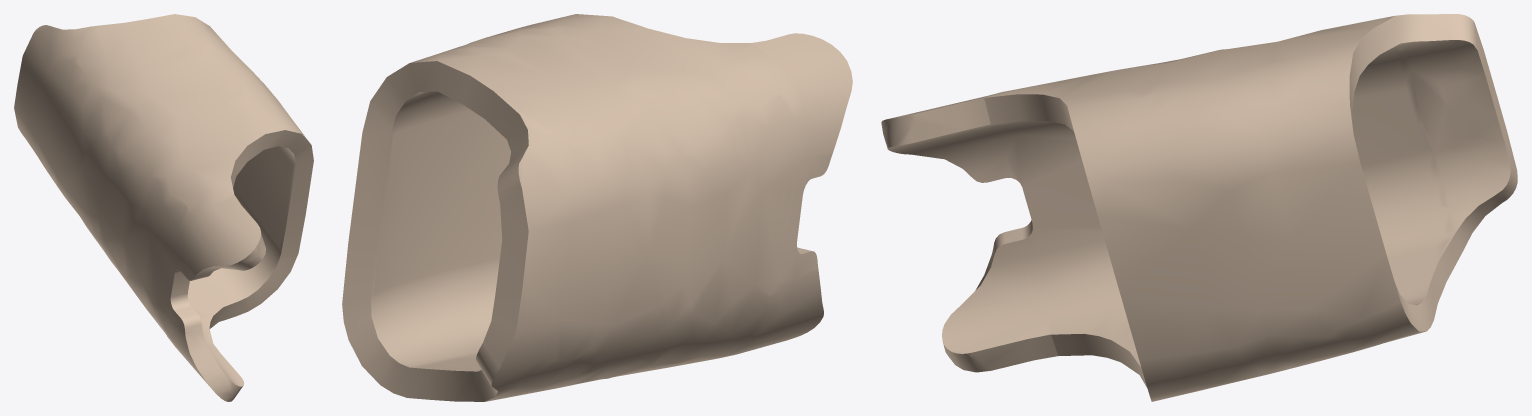
The model's file is r_hand_P_L_1.obj.
3 renders of one model, left to right at view 1: azimuth 30°, elevation 25°; view 2: azimuth 150°, elevation 25°; view 3: azimuth 270°, elevation 25°, orthographic. The views are drawn at different scales.
Bounding box in the file's own units: 19.69 × 29.19 × 45.31.
